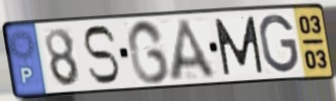8: (43, 26, 81, 88)
A: (167, 17, 220, 83)
G: (125, 17, 172, 86), (257, 12, 301, 75)
M: (212, 14, 266, 78)
S: (81, 23, 122, 87)
